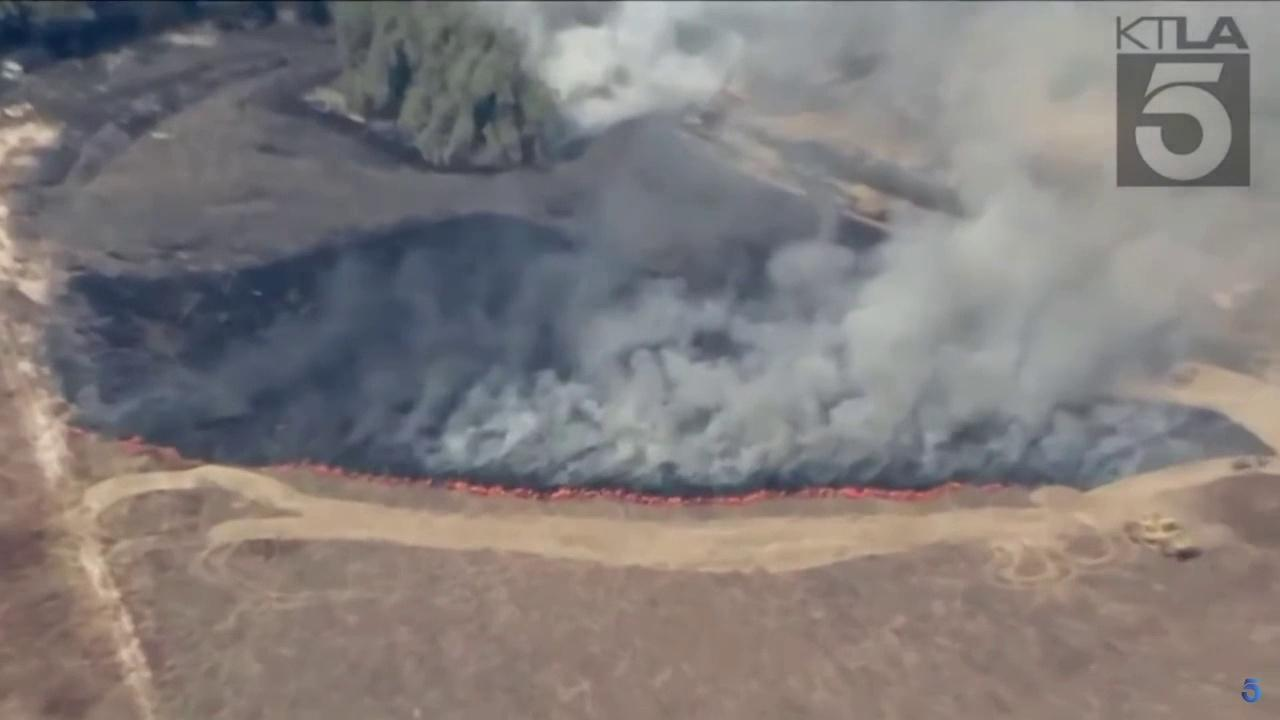fire: (445, 480, 965, 505), (260, 460, 412, 487), (116, 435, 203, 466)
smoke: (422, 6, 1280, 488)
